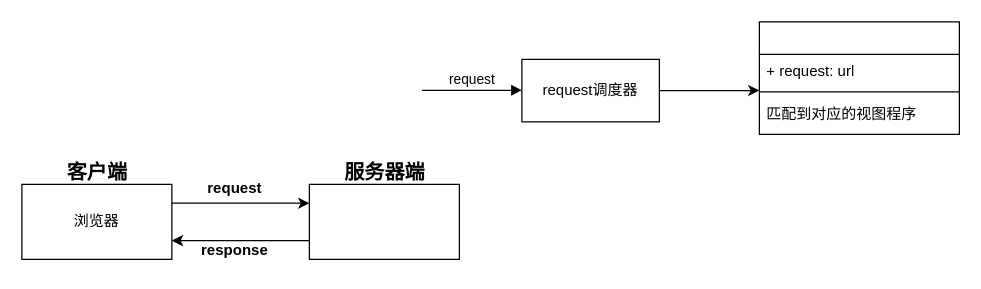
The diagram is 981 pixels wide and 289 high, and some of its shapes have lost their labels. Here are the shapes that lost their labels. From the top down, the box of each, then its label:
(758, 21, 959, 134): urls.py
(308, 183, 459, 259): Django
